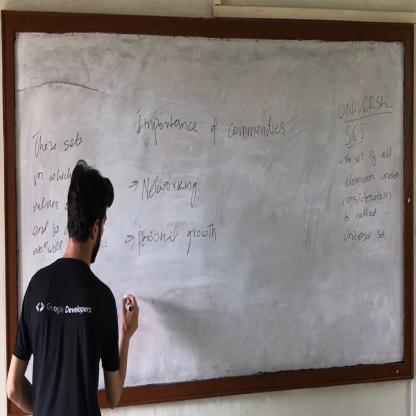Handwritten text: (135, 101, 293, 152), (137, 220, 221, 266), (141, 170, 201, 212), (30, 125, 83, 160), (336, 90, 395, 119), (341, 141, 399, 169), (341, 169, 402, 188), (337, 189, 397, 207), (342, 225, 391, 247), (30, 164, 73, 189), (27, 192, 60, 214), (342, 121, 367, 149), (340, 209, 380, 222)
Lecturer: (29, 157, 135, 410)
Whiteboard: (7, 20, 408, 403)
